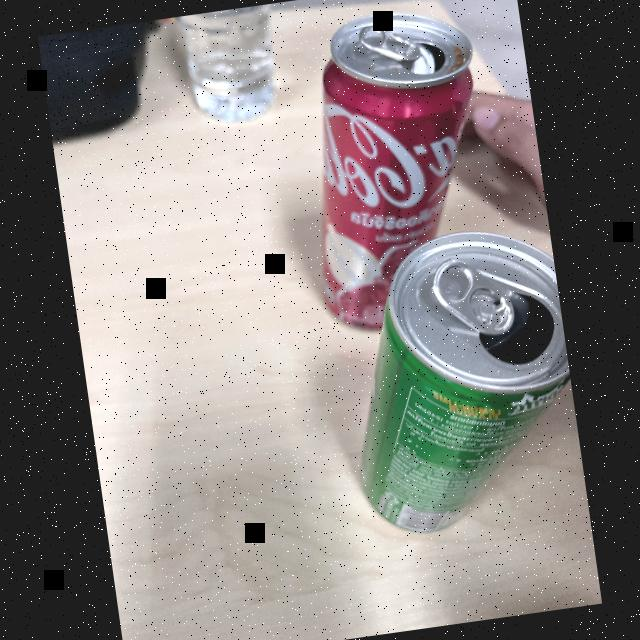can: (294, 222, 588, 540), (267, 0, 512, 345)
